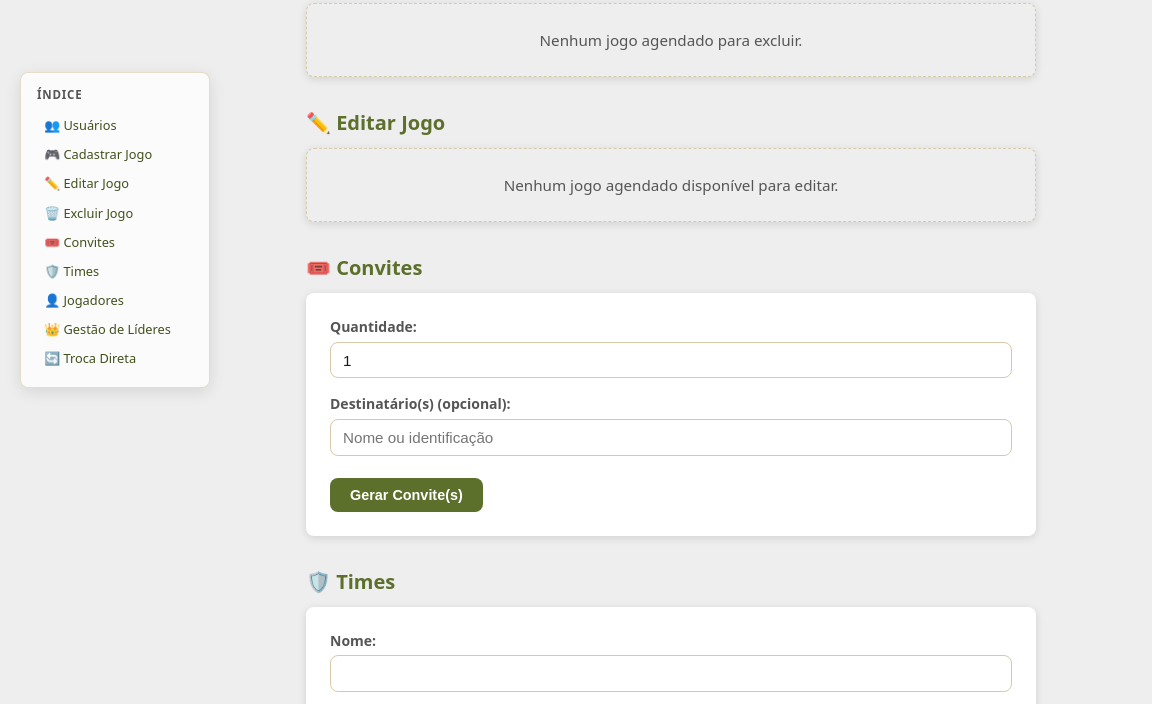
Test case: InvitesSection — exibição de tokens gerados › exibe todos os tokens retornados pela API após geração em massa
(page scrolled)
Replace the text in the number field labelled "Quantidade:" with "2": (671, 360) x1=330 y1=342 x2=1012 y2=378
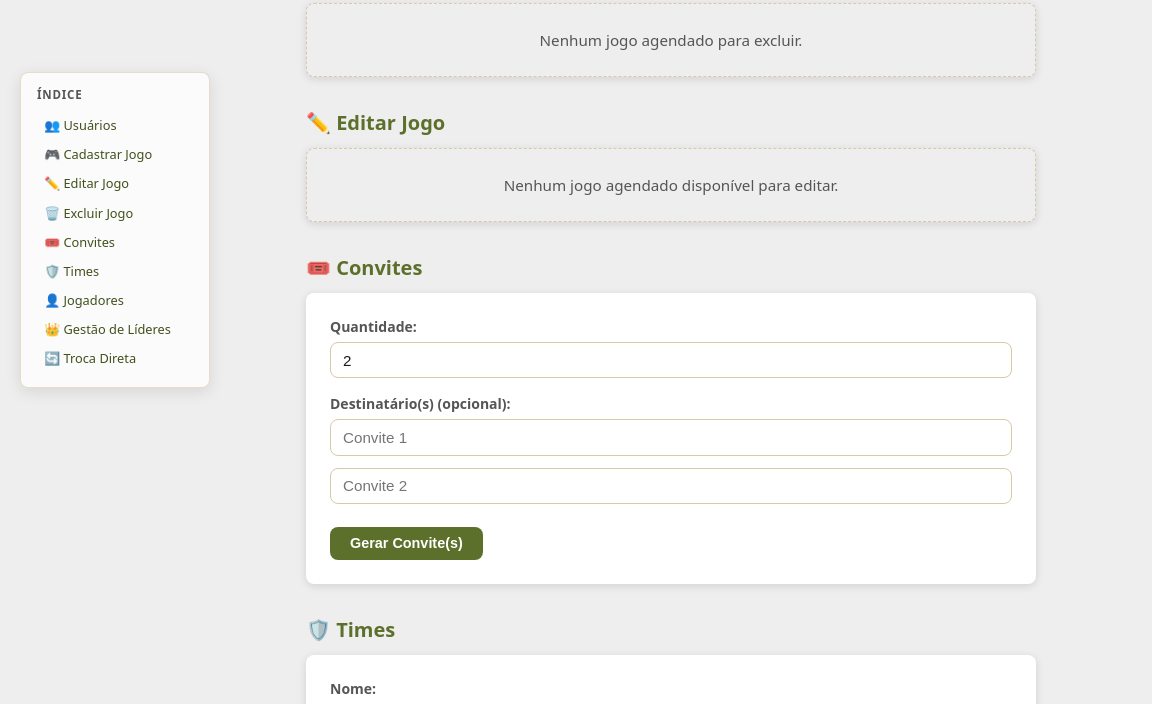
Check: the field with placeholder "Convite 1" is shown, box x1=330 y1=419 x2=1012 y2=456
Click the button "Gerar Convite(s)": (406, 543) x1=330 y1=526 x2=483 y2=560
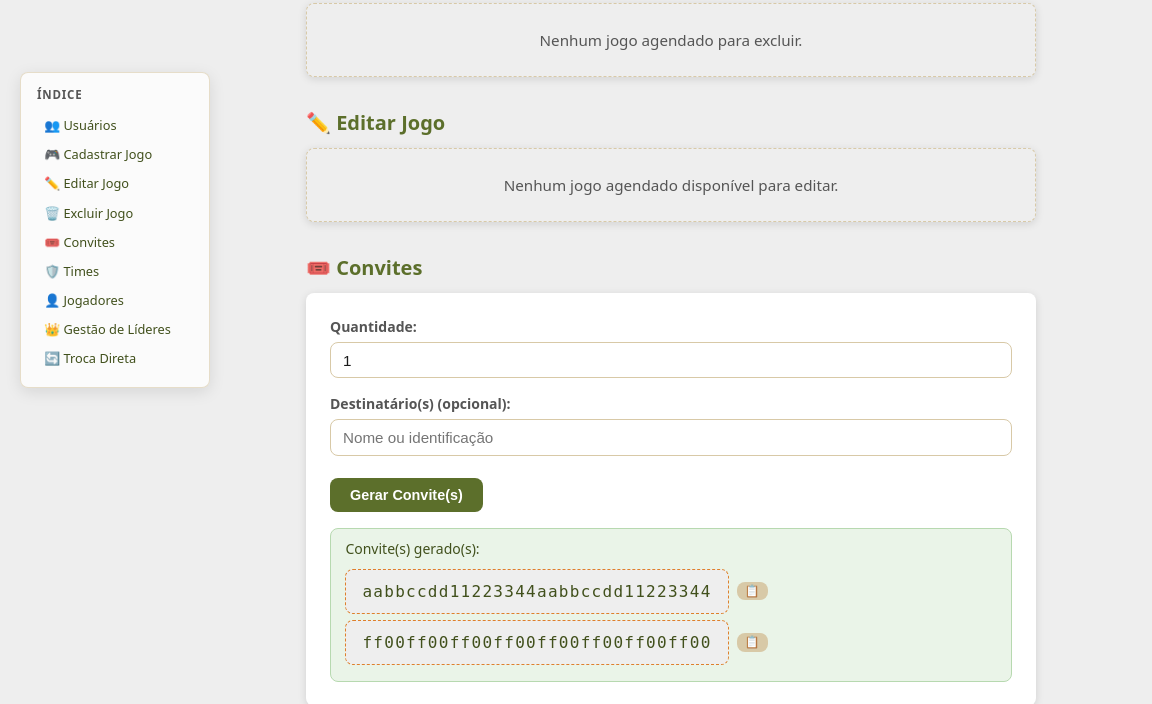
Check: the text "aabbccdd11223344aabbccdd11223344" is shown, box x1=345 y1=568 x2=729 y2=614
Check: the text "ff00ff00ff00ff00ff00ff00ff00ff00" is shown, box x1=345 y1=620 x2=729 y2=665
